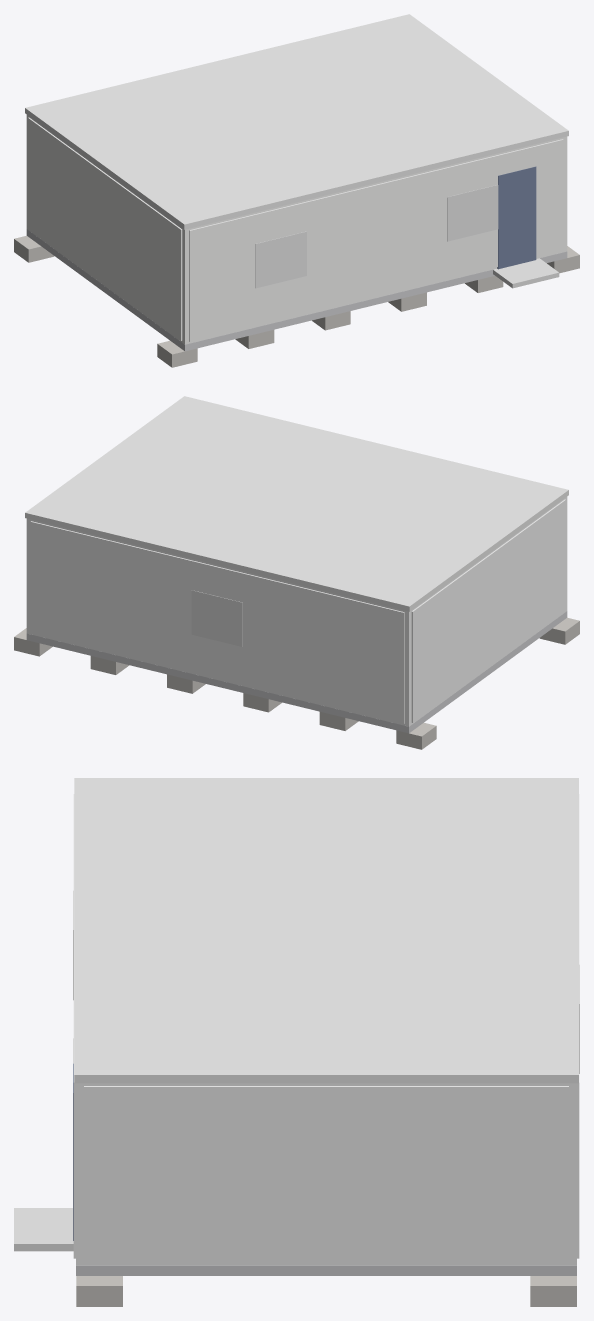
Rendered from Studio-30-Village-LOD2.glb.
The picture shows the model from 3 angles, top to bottom: view 1: azimuth 30°, elevation 25°; view 2: azimuth 150°, elevation 25°; view 3: azimuth 270°, elevation 25°; orthographic projection. The views are drawn at different scales.
Parts seen in each view (by area): view 1: RoofMain, ExteriorPanelsStandard, WindowsStandard, ExteriorShell, FoundationBlocks, EntryDoor, BaseFrame, AccessibilityVillage; view 2: RoofMain, ExteriorPanelsStandard, BaseFrame, ExteriorShell, FoundationBlocks, WindowsStandard; view 3: RoofMain, ExteriorPanelsStandard, ExteriorShell, BaseFrame, FoundationBlocks, AccessibilityVillage.
Part boxes in pixels (x1=…): RoofMain: x1=25, y1=14, x2=568, y2=229; ExteriorPanelsStandard: x1=28, y1=117, x2=563, y2=341; WindowsStandard: x1=255, y1=185, x2=498, y2=288; ExteriorShell: x1=26, y1=115, x2=567, y2=344; FoundationBlocks: x1=14, y1=235, x2=579, y2=367; EntryDoor: x1=497, y1=166, x2=536, y2=269; BaseFrame: x1=26, y1=229, x2=567, y2=351; AccessibilityVillage: x1=493, y1=258, x2=559, y2=288; RoofMain: x1=25, y1=396, x2=568, y2=611; ExteriorPanelsStandard: x1=30, y1=499, x2=565, y2=723; BaseFrame: x1=26, y1=611, x2=567, y2=733; ExteriorShell: x1=26, y1=497, x2=567, y2=726; FoundationBlocks: x1=14, y1=617, x2=579, y2=749; WindowsStandard: x1=191, y1=590, x2=242, y2=646; RoofMain: x1=74, y1=778, x2=578, y2=1083; ExteriorPanelsStandard: x1=73, y1=794, x2=579, y2=1262; ExteriorShell: x1=76, y1=1083, x2=576, y2=1265; BaseFrame: x1=76, y1=1265, x2=576, y2=1275; FoundationBlocks: x1=76, y1=1276, x2=576, y2=1306; AccessibilityVillage: x1=14, y1=1208, x2=73, y2=1251.
Bounding box in the file's own units: 9.6 × 3.17 × 7.29.
